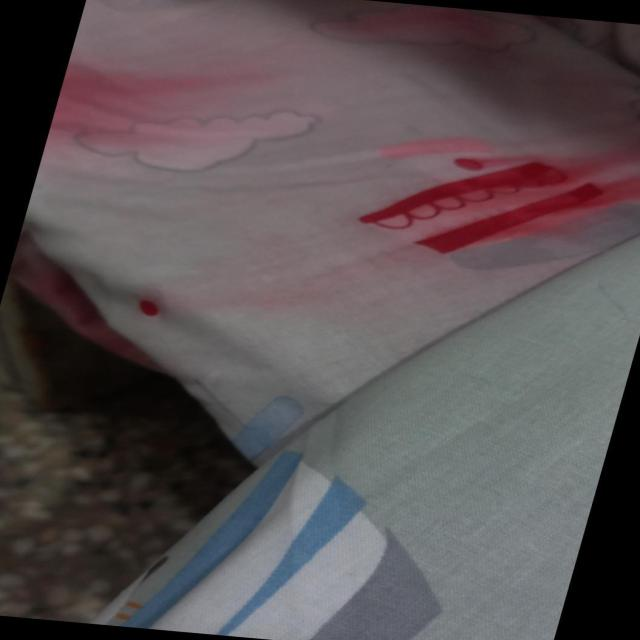baekra: (22, 0, 639, 282)
